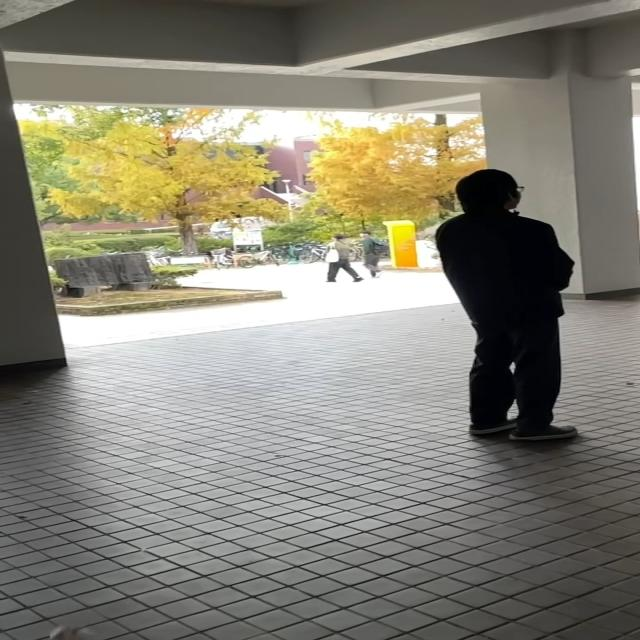paper: (46, 622, 100, 640)
